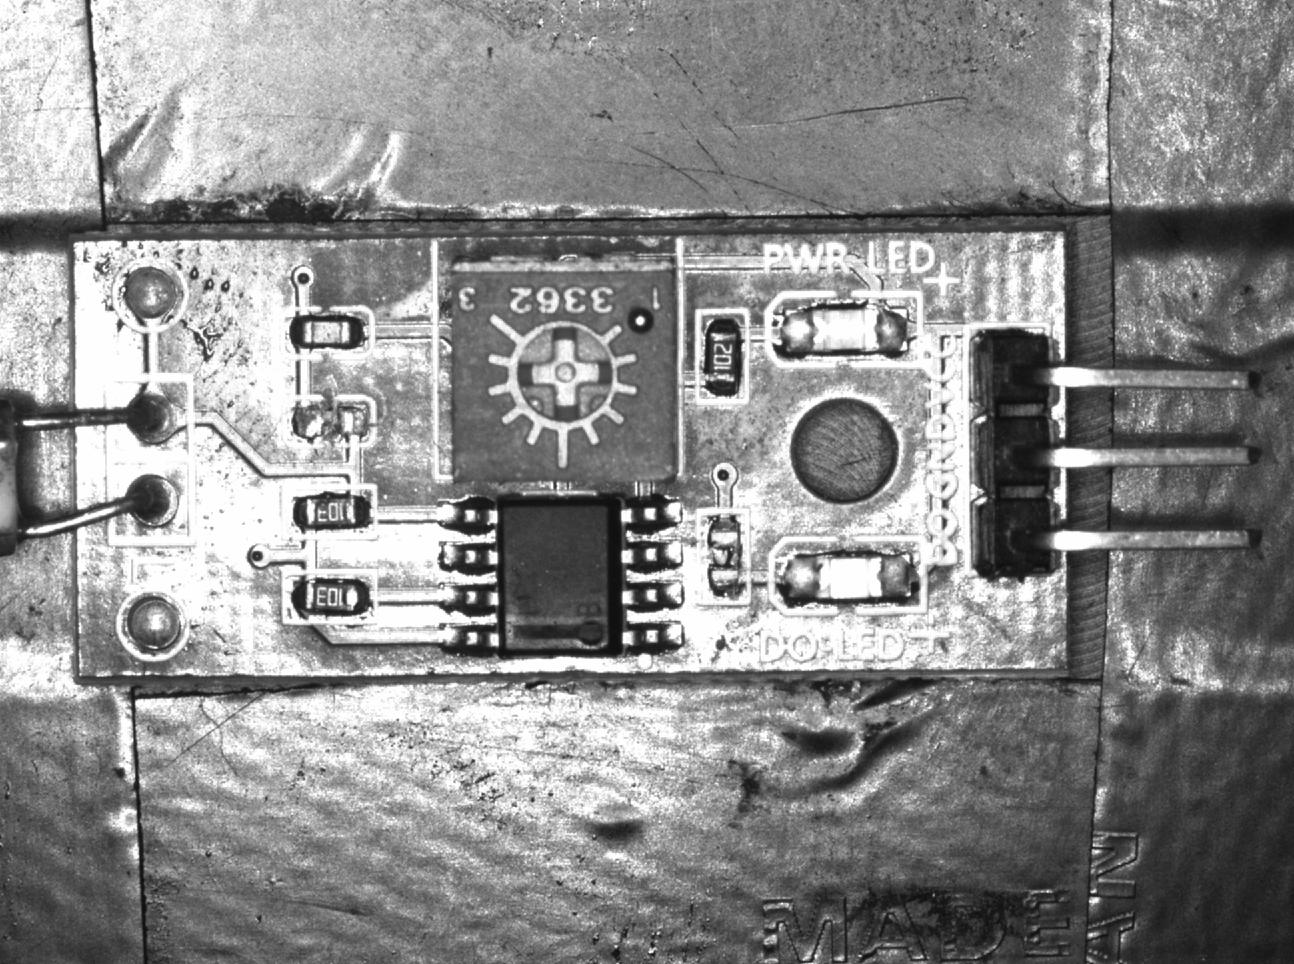miss: (274, 394, 376, 449), (699, 508, 748, 604)
ok: (281, 571, 380, 624), (284, 486, 380, 538), (280, 306, 373, 359), (701, 309, 748, 404)
